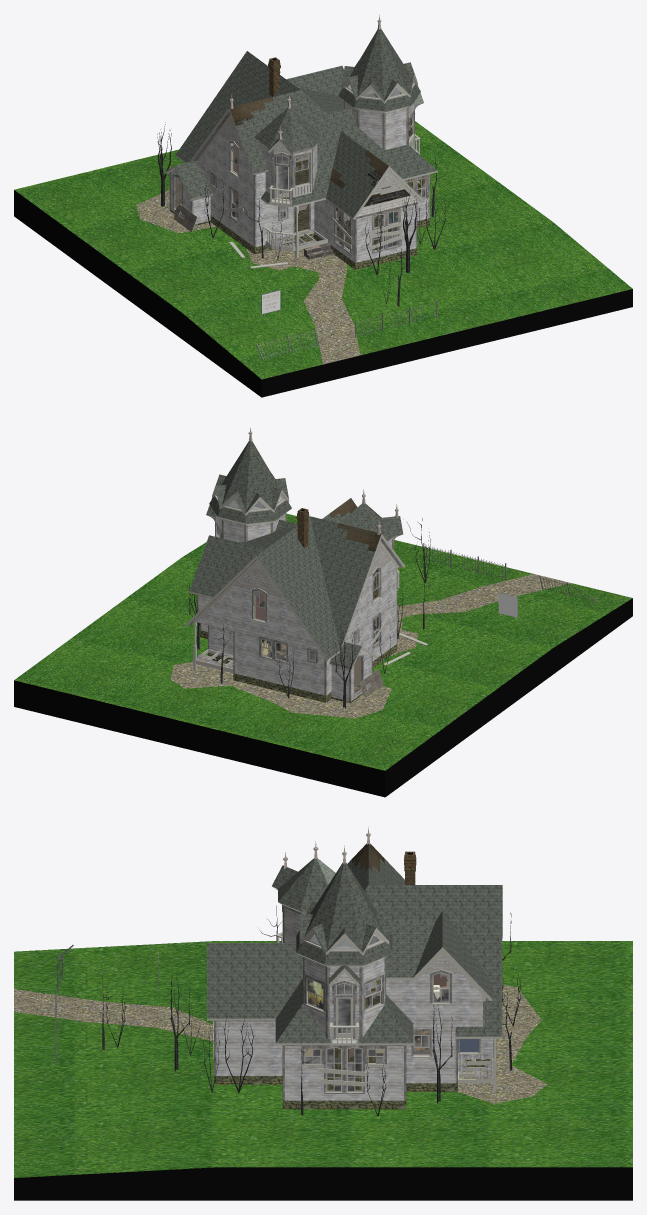
Rendered from Abandoned_House.glb.
The picture shows the model from 3 angles, top to bottom: view 1: azimuth 30°, elevation 25°; view 2: azimuth 150°, elevation 25°; view 3: azimuth 270°, elevation 25°; orthographic projection. The views are drawn at different scales.
Parts seen in each view (by area): view 1: Material3 (×12), Material2 (×4); view 2: Material3 (×10), Material2 (×2); view 3: Material3 (×10), Material2 (×4).
Boxes of the visible parts, x1,y1,x2,y2 form: Material3 (×12): (14, 28, 632, 397); Material2 (×4): (157, 74, 446, 303); Material3 (×10): (14, 441, 632, 797); Material2 (×2): (185, 486, 430, 698); Material3 (×10): (14, 843, 632, 1200); Material2 (×4): (102, 886, 521, 1116).
Bounding box in the file's own units: 5.17 × 3 × 5.97.
53 materials, 34 textured.
